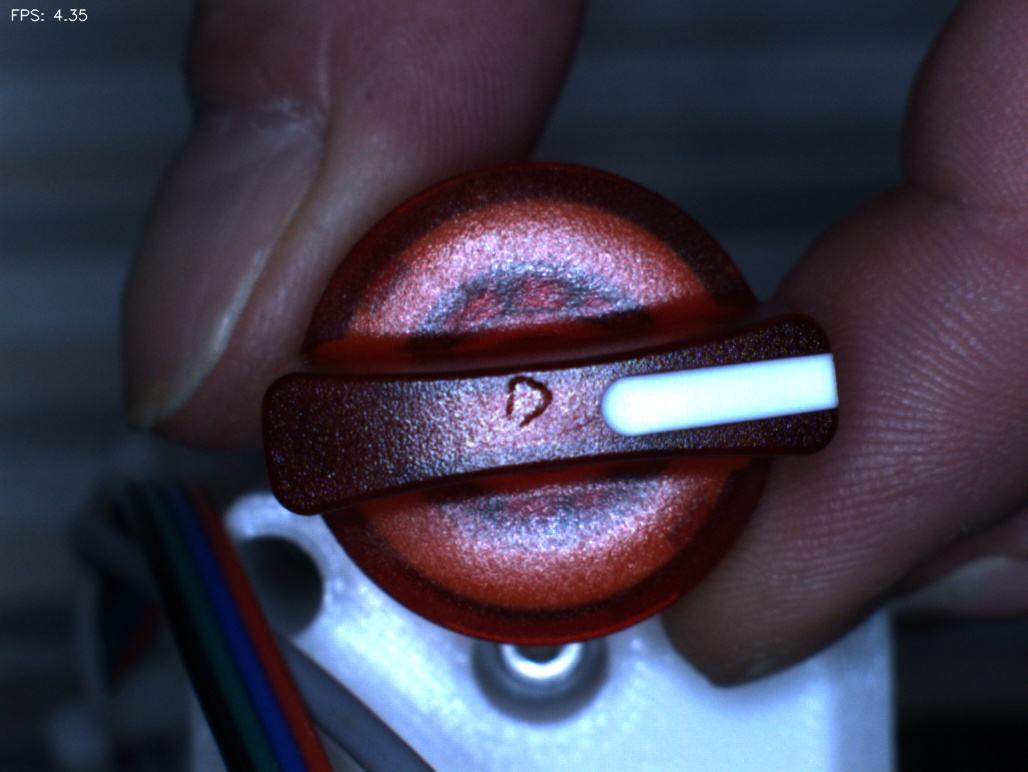Choc: (485, 357, 571, 443)
